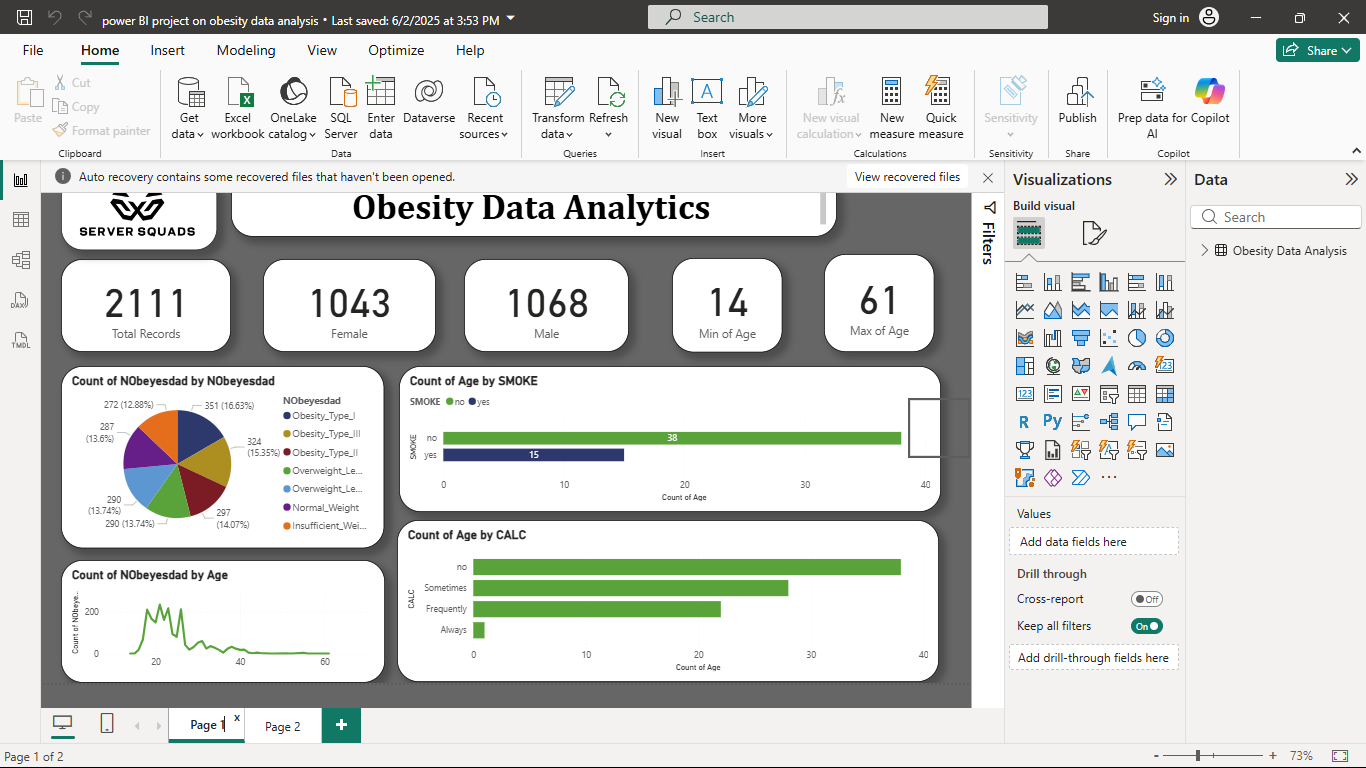

What the dashboard file says about the page in this screenshot:
{"tool":"powerbi","page":{"name":"Page 1","canvas":[1280,720],"ordinal":0},"visuals":[{"type":"card","fields":{"Values":["Obesity Data Analysis.Total Records"]},"box":[27.3,136.7,234.1,128.2],"z":0},{"type":"card","fields":{"Values":["Obesity Data Analysis.Female"]},"box":[305.9,136.7,237.5,128.2],"z":1000},{"type":"card","fields":{"Values":["Obesity Data Analysis.Male"]},"box":[582.8,136.7,227.3,128.2],"z":2000},{"type":"actionButton","box":[0,0,100,40],"z":3000},{"type":"card","fields":{"Values":["Obesity Data Analysis.Age"]},"box":[868.1,135,152.1,129.9],"z":4000},{"type":"card","fields":{"Values":["Obesity Data Analysis.Age"]},"box":[1078.3,129.9,152.1,135],"z":5000},{"type":"textbox","box":[261.5,20.5,834,85.4],"z":6000},{"type":"pieChart","fields":{"Y":["Obesity Data Analysis.NObeyesdad"],"Category":["Obesity Data Analysis.NObeyesdad"]},"box":[27.5,283.4,445.3,251],"z":7000},{"type":"barChart","title":"Count of Age by SMOKE","fields":{"Category":["Obesity Data Analysis.SMOKE"],"Y":["Obesity Data Analysis.Age"],"Series":["Obesity Data Analysis.SMOKE"]},"box":[492.2,283.4,746.5,200.8],"z":8000},{"type":"barChart","fields":{"Category":["Obesity Data Analysis.CALC"],"Y":["Obesity Data Analysis.Age"]},"box":[490.6,495.5,746.5,223.5],"z":9000},{"type":"lineChart","fields":{"Category":["Obesity Data Analysis.Age"],"Y":["Obesity Data Analysis.NObeyesdad"]},"box":[27.3,550.3,446,169.2],"z":11000},{"type":"actionButton","box":[1193.4,327.1,85.8,82.6],"z":11500},{"type":"image","box":[27.5,19.4,215.4,105.2],"z":12000}]}

Visuals, with their boxes on the page's 1280x720 design canvas (x1, y1, x2, y2). These are canvas units, not pixel positions in the 1366x768 screenshot, which may show the page scaled, cropped or inside an application window:
card - Obesity Data Analysis.Total Records: <box>27,137,261,265</box>
card - Obesity Data Analysis.Female: <box>306,137,543,265</box>
card - Obesity Data Analysis.Male: <box>583,137,810,265</box>
actionButton: <box>0,0,100,40</box>
card - Obesity Data Analysis.Age: <box>868,135,1020,265</box>
card - Obesity Data Analysis.Age: <box>1078,130,1230,265</box>
textbox: <box>262,20,1096,106</box>
pieChart - Obesity Data Analysis.NObeyesdad x Obesity Data Analysis.NObeyesdad: <box>28,283,473,534</box>
"Count of Age by SMOKE" barChart: <box>492,283,1239,484</box>
barChart - Obesity Data Analysis.CALC x Obesity Data Analysis.Age: <box>491,496,1237,719</box>
lineChart - Obesity Data Analysis.Age x Obesity Data Analysis.NObeyesdad: <box>27,550,473,720</box>
actionButton: <box>1193,327,1279,410</box>
image: <box>28,19,243,125</box>
